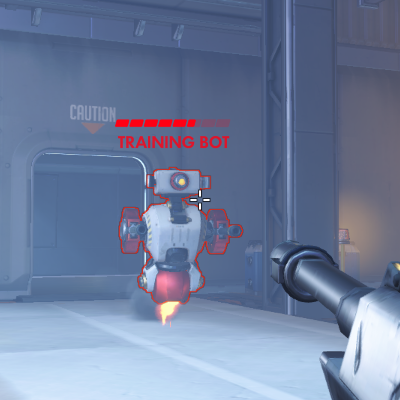hpbar: (114, 118, 230, 128)
